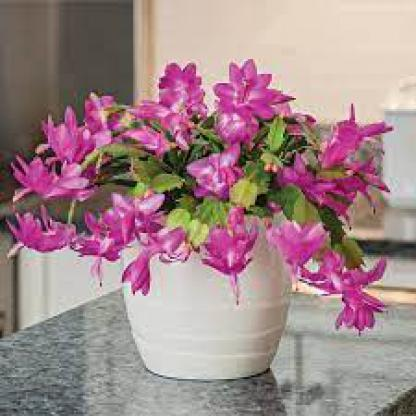Aglonema: (10, 13, 390, 401)
